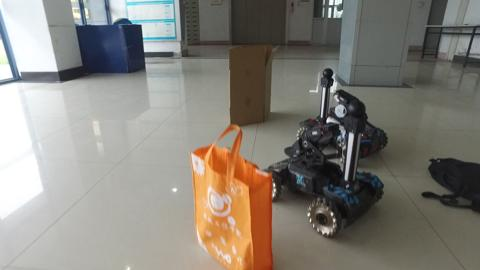bag: (187, 123, 276, 270)
box: (229, 42, 272, 123)
chariot: (266, 103, 389, 235), (307, 67, 391, 156)
